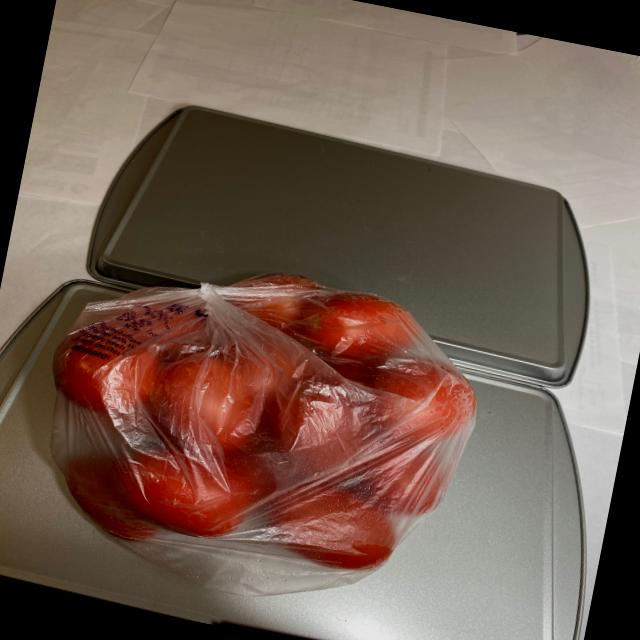tomato: (20, 231, 493, 607)
